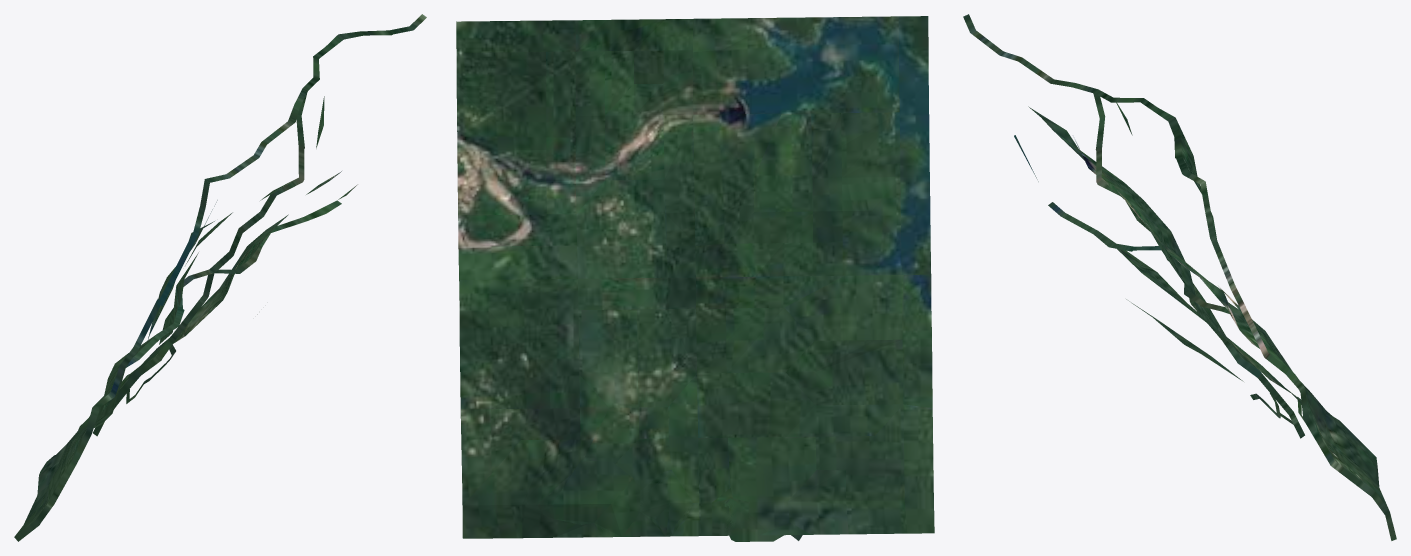
The picture shows the model from 3 angles, left to right: view 1: azimuth 30°, elevation 25°; view 2: azimuth 150°, elevation 25°; view 3: azimuth 270°, elevation 25°; orthographic projection. The views are drawn at different scales.
Size of the model in its own units: 4963 by 4566 by 4211.
Materials: 1 (1 with a texture image).
